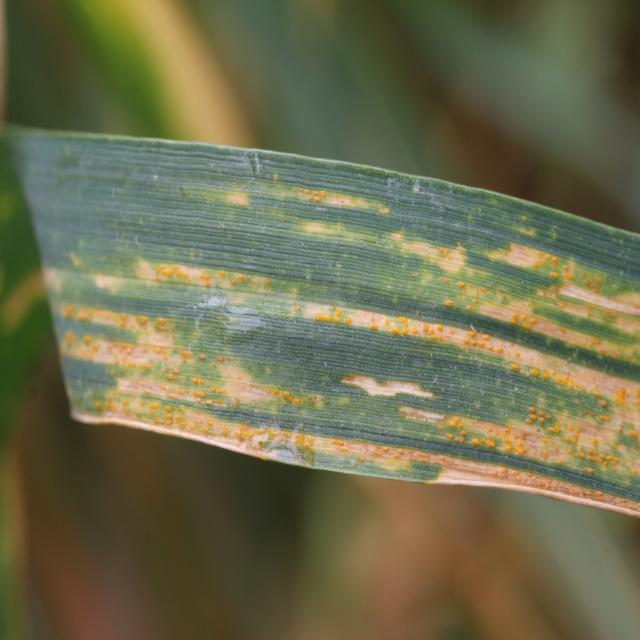leaf rust: (50, 134, 640, 516)
